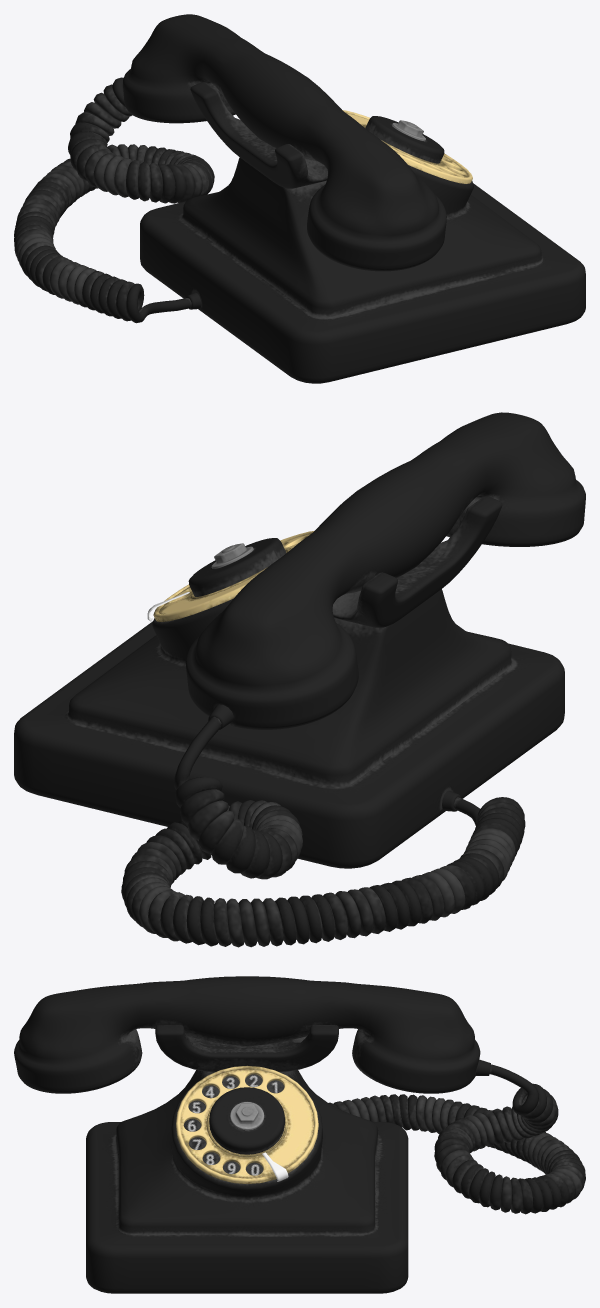
File: old_telephone.glb
3 views of the same model, one above another, from view 1: azimuth 30°, elevation 25°; view 2: azimuth 150°, elevation 25°; view 3: azimuth 270°, elevation 25° (orthographic). The views are drawn at different scales.
Bounding box in the file's own units: 2.3 × 1.33 × 3.16.
Materials: 1 (1 with a texture image).
